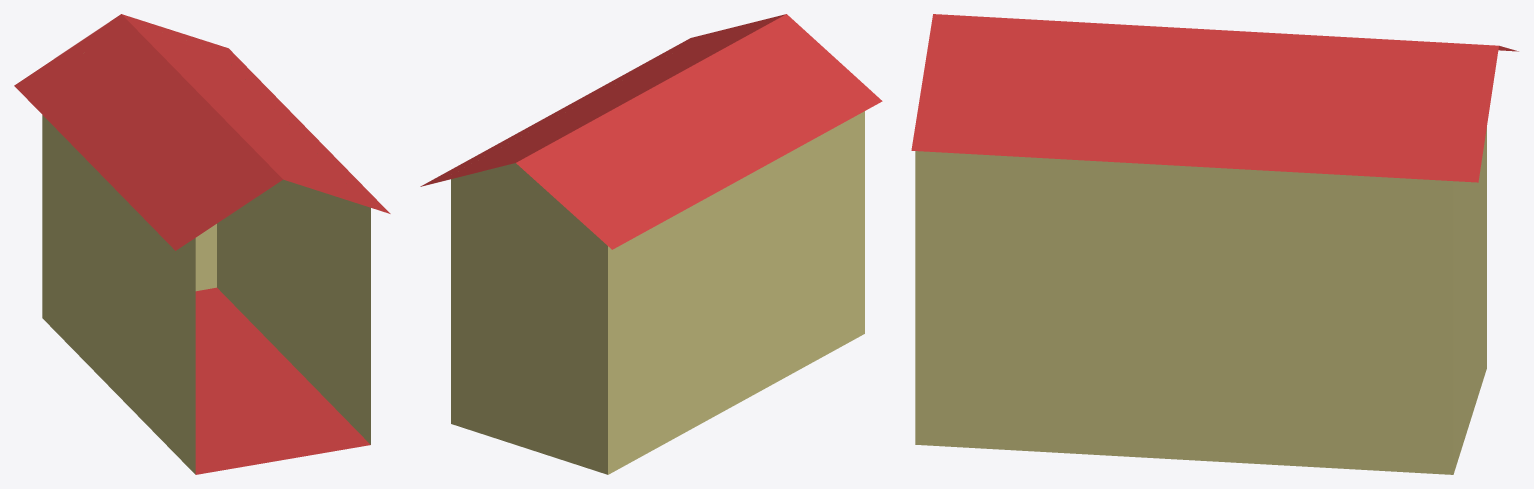
3 views of the same model, side by side, from view 1: azimuth 30°, elevation 25°; view 2: azimuth 150°, elevation 25°; view 3: azimuth 270°, elevation 25° (orthographic). The views are drawn at different scales.
Size of the model in its own units: 6.62 by 10.46 by 7.16.
